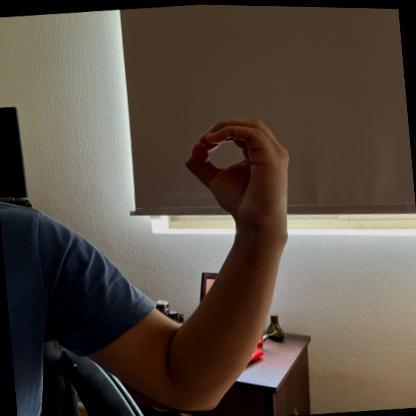O: (178, 104, 300, 224)
